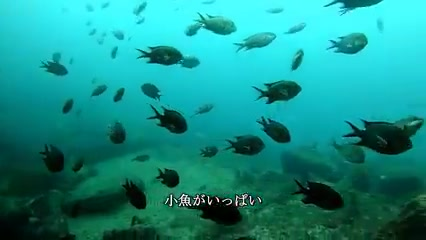mezina: (342, 113, 426, 171), (248, 82, 307, 112), (139, 103, 192, 135), (193, 7, 241, 40), (294, 178, 345, 209), (321, 32, 377, 59), (224, 130, 270, 160), (234, 29, 281, 53), (117, 178, 149, 211), (137, 45, 187, 66), (153, 161, 188, 189), (36, 144, 70, 171), (38, 59, 66, 78), (281, 101, 283, 104)
smallfish: (135, 80, 167, 104), (103, 117, 127, 145), (288, 50, 310, 74), (283, 19, 311, 37), (191, 102, 217, 121), (58, 95, 81, 116), (262, 3, 292, 16), (107, 41, 124, 62), (108, 85, 126, 104), (90, 83, 110, 99), (106, 28, 129, 41)
